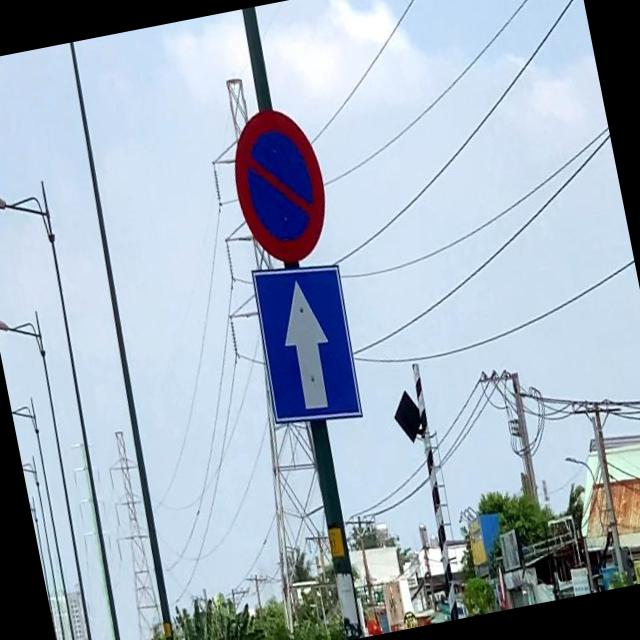I-407a: (247, 254, 366, 432)
P-131a: (222, 103, 336, 264)
